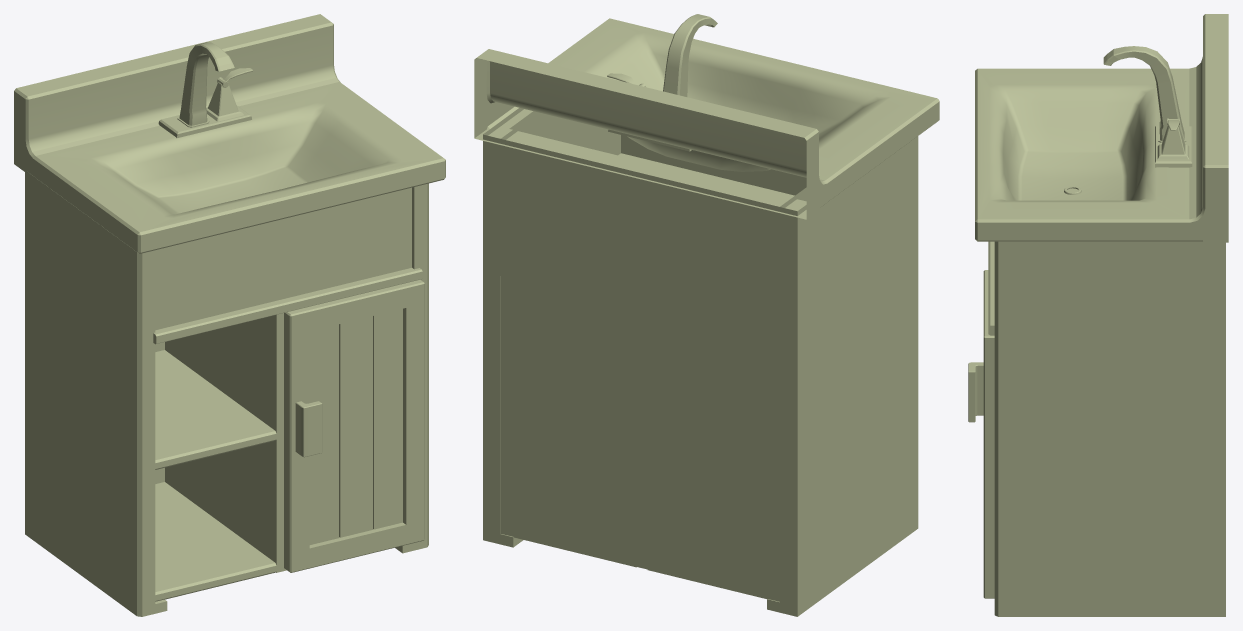
File: bathroom_sink.fbx
3 renders of one model, left to right at view 1: azimuth 30°, elevation 25°; view 2: azimuth 150°, elevation 25°; view 3: azimuth 270°, elevation 25°, orthographic. The views are drawn at different scales.
Parts seen in each view (by area): view 1: polySurface37; view 2: polySurface37; view 3: polySurface37.
Boxes of the visible parts, x1,y1,x2,y2 form: polySurface37: (14, 14, 445, 616); polySurface37: (474, 14, 939, 616); polySurface37: (968, 14, 1228, 616).
Size of the model in its own units: 0.7626 by 1.15 by 0.5483.
